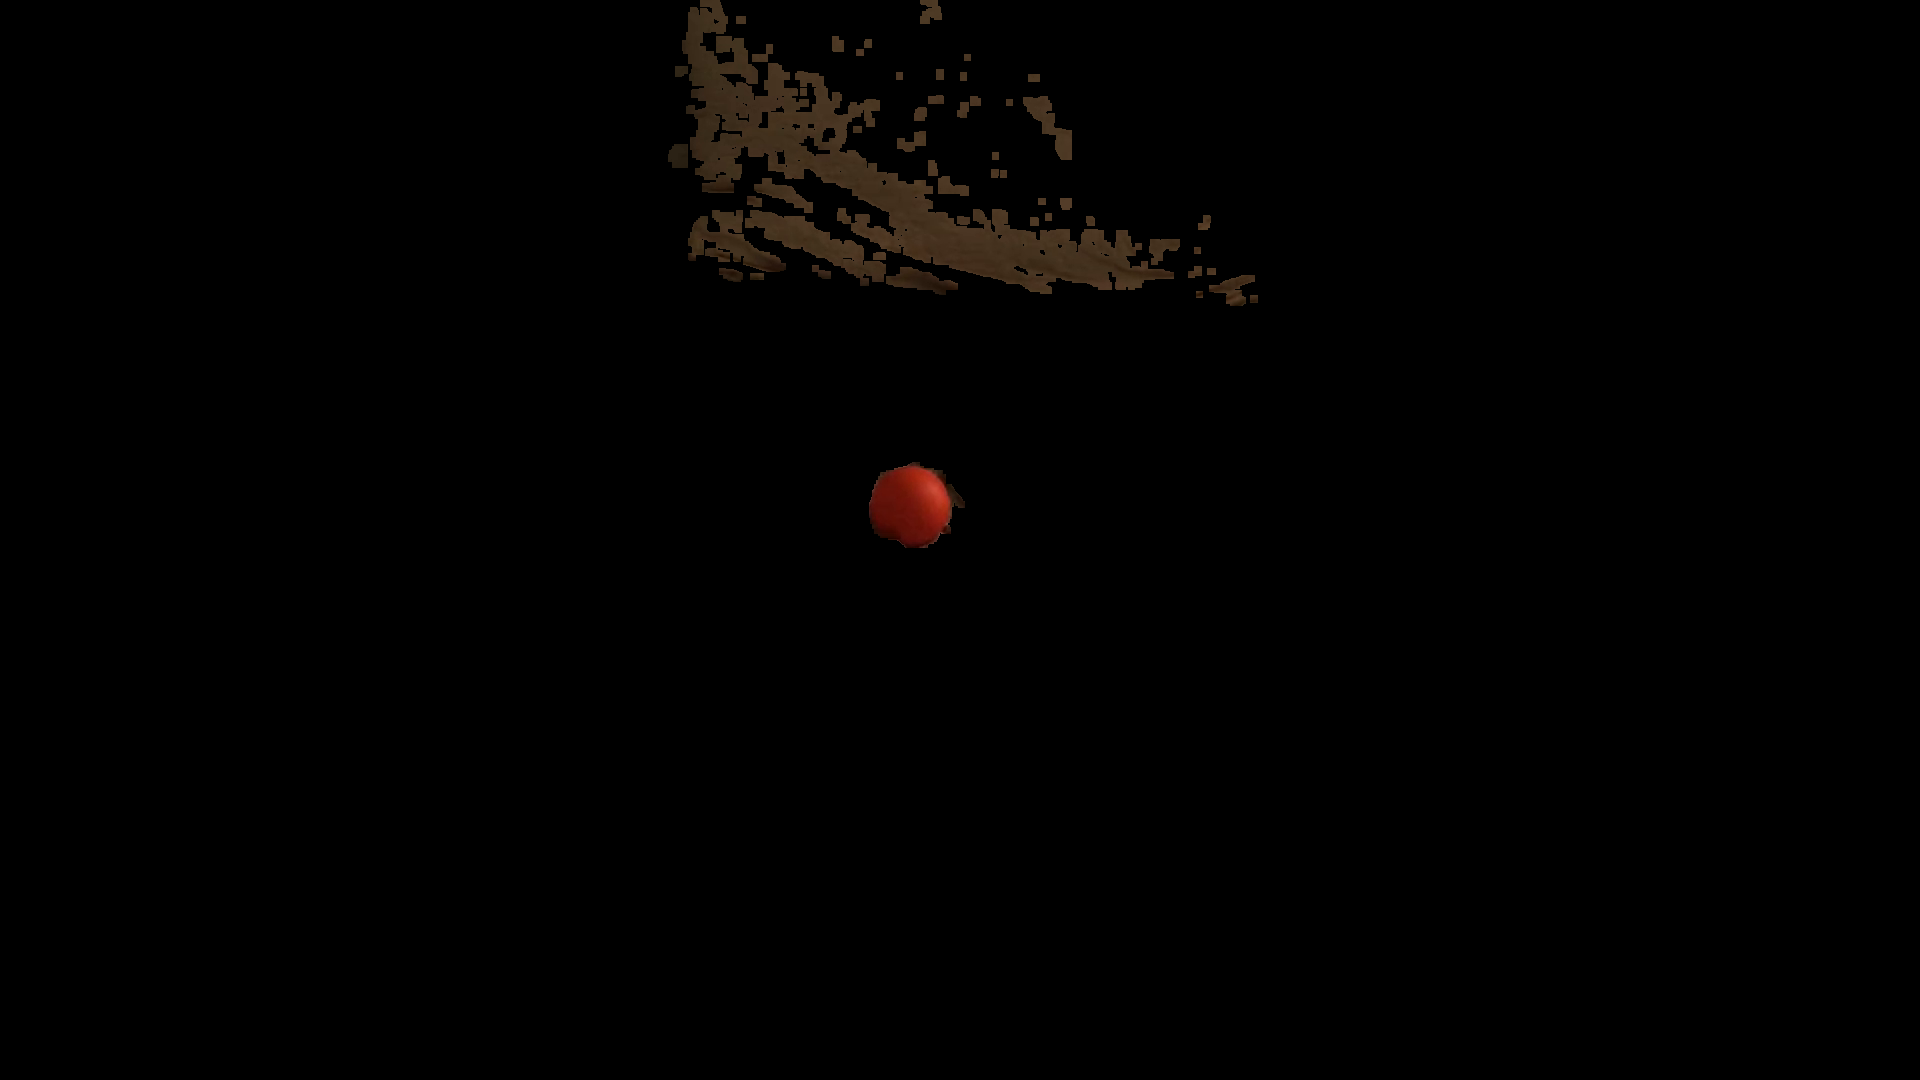Ball: (866, 463, 952, 553)
